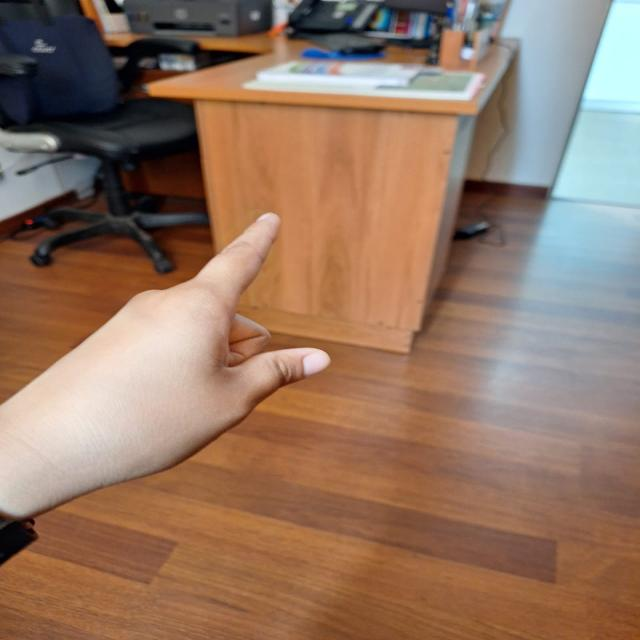X: (0, 202, 347, 492)
